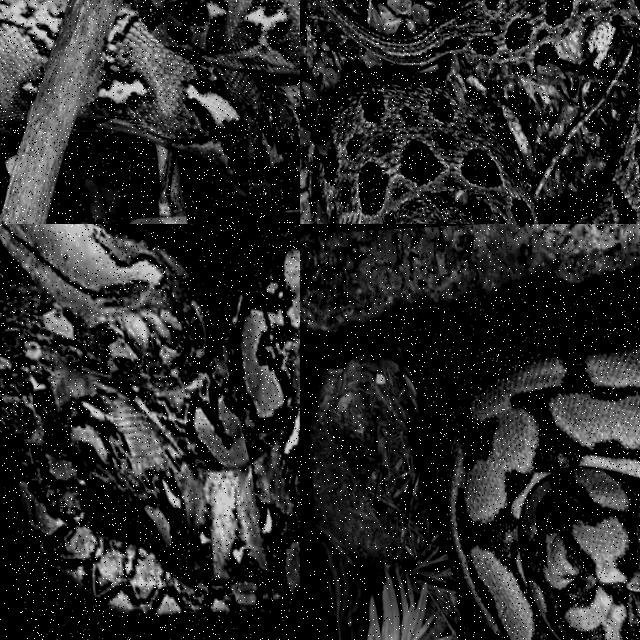Daboia siamensis: (318, 0, 639, 223)
Malayopython reticulatus: (0, 224, 299, 615), (434, 319, 639, 639), (76, 0, 299, 210)
snake: (0, 224, 299, 615), (318, 0, 639, 223), (434, 319, 639, 639), (76, 0, 299, 210)
